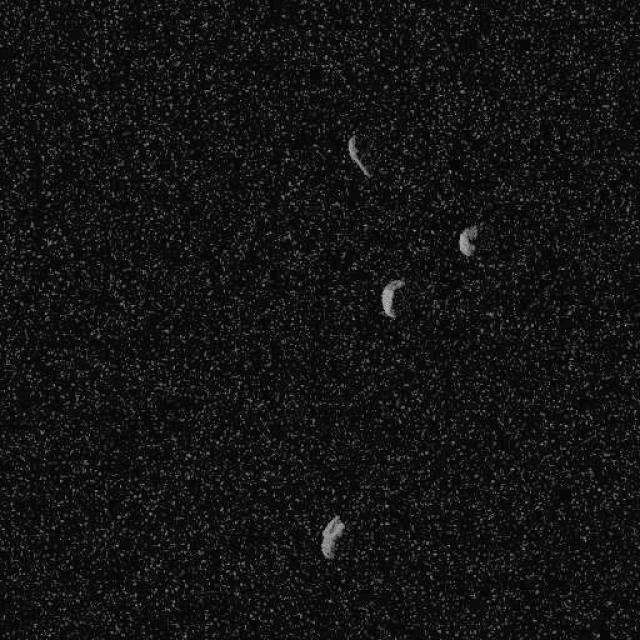D2: (318, 514, 344, 560), (347, 132, 372, 178), (379, 278, 405, 318), (458, 224, 478, 256)
